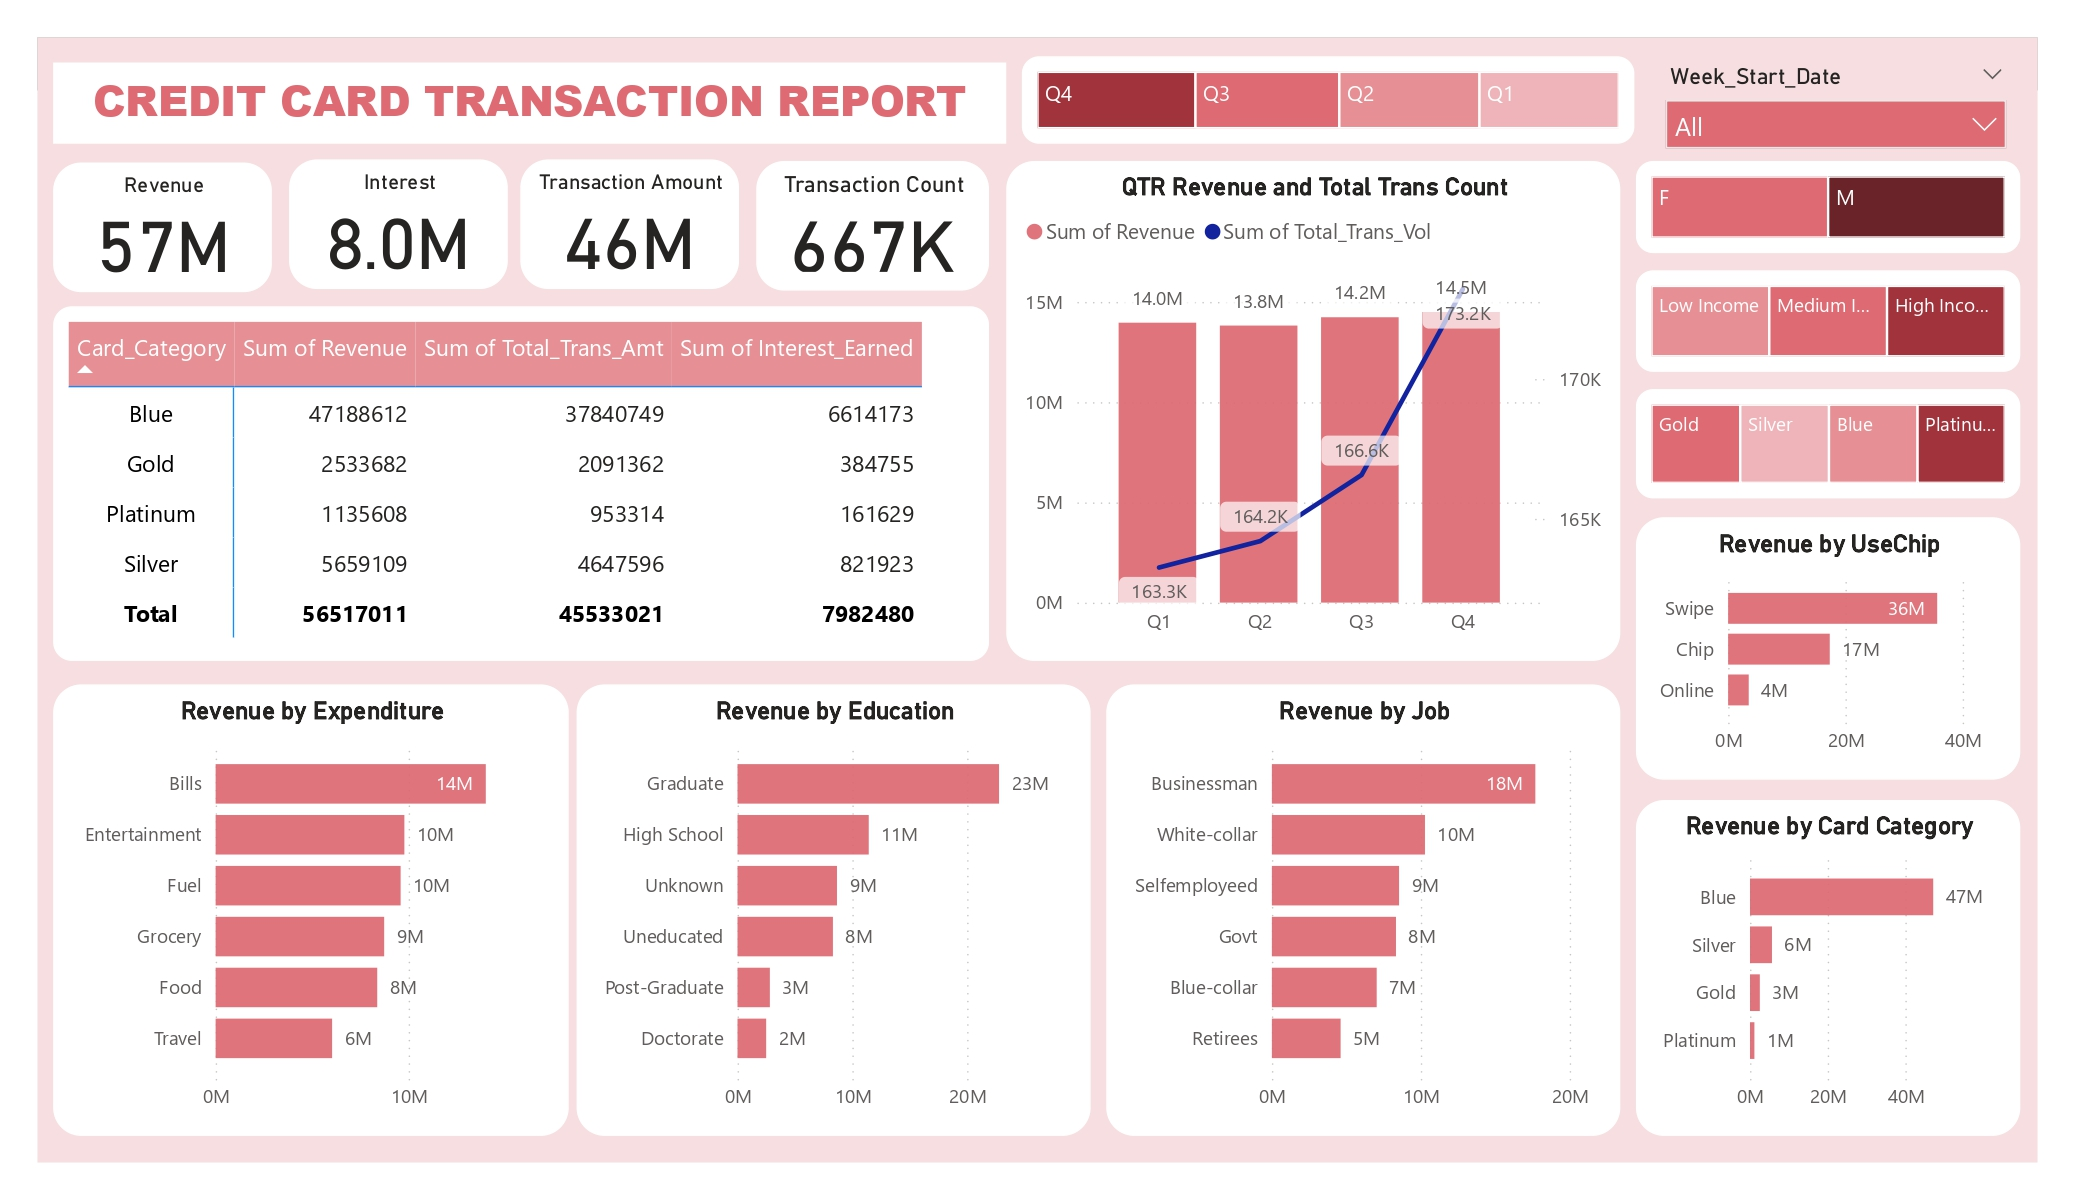

Layout of this report page (visuals, bound fields, positions):
{"tool":"powerbi","page":{"name":"Credit Card Trans Details","canvas":[1280,720],"ordinal":0},"visuals":[{"type":"textbox","box":[10.4,16.4,609.5,52],"z":0},{"type":"lineStackedColumnComboChart","title":"QTR Revenue and Total Trans  Count","fields":{"Y":["Sum(ccdb credit_card.Revenue)"],"Category":["ccdb credit_card.Qtr"],"Y2":["Sum(ccdb credit_card.Total_Trans_Vol)"]},"box":[619.9,79.2,393.4,319.7],"z":1000},{"type":"barChart","title":"Revenue by Expenditure ","fields":{"Y":["Sum(ccdb credit_card.Revenue)"],"Category":["ccdb credit_card.Exp Type"]},"box":[9.7,414.2,330,289.1],"z":2000},{"type":"barChart","title":"Revenue by Education ","fields":{"Y":["Sum(ccdb credit_card.Revenue)"],"Category":["ccdb customer.Education_Level"]},"box":[344.7,414.2,329.4,289.1],"z":3000},{"type":"barChart","title":"Revenue by  Job","fields":{"Y":["Sum(ccdb credit_card.Revenue)"],"Category":["ccdb customer.Customer_Job"]},"box":[683.9,414.2,329.4,289.1],"z":4000},{"type":"barChart","title":"Revenue by Card Category","fields":{"Y":["Sum(ccdb credit_card.Revenue)"],"Category":["ccdb credit_card.Card_Category"]},"box":[1023,487.9,246,215.4],"z":5000},{"type":"barChart","title":"Revenue by UseChip","fields":{"Y":["Sum(ccdb credit_card.Revenue)"],"Category":["ccdb credit_card.Use Chip"]},"box":[1023,307.2,246,168.2],"z":6000},{"type":"pivotTable","title":"Revenue by Education Level","fields":{"Rows":["ccdb credit_card.Card_Category"],"Values":["Sum(ccdb credit_card.Revenue)","Sum(ccdb credit_card.Total_Trans_Amt)","Sum(ccdb credit_card.Interest_Earned)"]},"box":[9.7,172.4,599.1,226.6],"z":7000},{"type":"card","title":"Revenue","fields":{"Values":["Sum(ccdb credit_card.Revenue)"]},"box":[10.1,79.7,140,83],"z":8000},{"type":"card","title":"Transaction Amount","fields":{"Values":["Sum(ccdb credit_card.Total_Trans_Amt)"]},"box":[308.6,77.8,140.4,83.4],"z":9000},{"type":"card","title":"Interest","fields":{"Values":["Sum(ccdb credit_card.Interest_Earned)"]},"box":[161.2,77.8,140,83.4],"z":10000},{"type":"card","title":"Transaction Count","fields":{"Values":["Sum(ccdb credit_card.Total_Trans_Vol)"]},"box":[460.1,79.2,148.7,83],"z":11000},{"type":"slicer","title":"QTR Revenue and Total Trans  Count","fields":{"Values":["ccdb credit_card.Week_Start_Date"]},"box":[1031.9,11.6,237.7,68.1],"z":12000},{"type":"treemap","fields":{"Group":["ccdb credit_card.Qtr"],"Values":["Avg(ccdb credit_card.Client_Num)"]},"box":[630.4,11.6,391.3,56.5],"z":13000},{"type":"treemap","fields":{"Values":["Avg(ccdb credit_card.Client_Num)"],"Group":["ccdb customer.Gender"]},"box":[1023,79.2,246,58.4],"z":14000},{"type":"treemap","fields":{"Values":["Avg(ccdb credit_card.Client_Num)"],"Group":["ccdb credit_card.Card_Category"]},"box":[1023,225.2,246,69.5],"z":15000},{"type":"treemap","fields":{"Values":["Avg(ccdb credit_card.Client_Num)"],"Group":["ccdb customer.IncomeGroup"]},"box":[1023,148.7,246,65.3],"z":16000}]}

Visuals, with their boxes in screenshot pixels (x1, y1, x2, y2):
textbox: bbox=[54, 63, 1006, 144]
"QTR Revenue and Total Trans  Count" lineStackedColumnComboChart: bbox=[1006, 161, 1621, 661]
"Revenue by Expenditure " barChart: bbox=[53, 685, 568, 1136]
"Revenue by Education " barChart: bbox=[576, 685, 1091, 1136]
"Revenue by  Job" barChart: bbox=[1106, 685, 1621, 1136]
"Revenue by Card Category" barChart: bbox=[1636, 800, 2020, 1136]
"Revenue by UseChip" barChart: bbox=[1636, 518, 2020, 780]
"Revenue by Education Level" pivotTable: bbox=[53, 307, 989, 661]
"Revenue" card: bbox=[53, 162, 272, 292]
"Transaction Amount" card: bbox=[520, 159, 739, 289]
"Interest" card: bbox=[289, 159, 508, 289]
"Transaction Count" card: bbox=[756, 161, 989, 291]
"QTR Revenue and Total Trans  Count" slicer: bbox=[1650, 56, 2021, 162]
treemap - ccdb credit_card.Qtr x Avg(ccdb credit_card.Client_Num): bbox=[1022, 56, 1634, 144]
treemap - Avg(ccdb credit_card.Client_Num) x ccdb customer.Gender: bbox=[1636, 161, 2020, 252]
treemap - Avg(ccdb credit_card.Client_Num) x ccdb credit_card.Card_Category: bbox=[1636, 389, 2020, 498]
treemap - Avg(ccdb credit_card.Client_Num) x ccdb customer.IncomeGroup: bbox=[1636, 270, 2020, 372]
